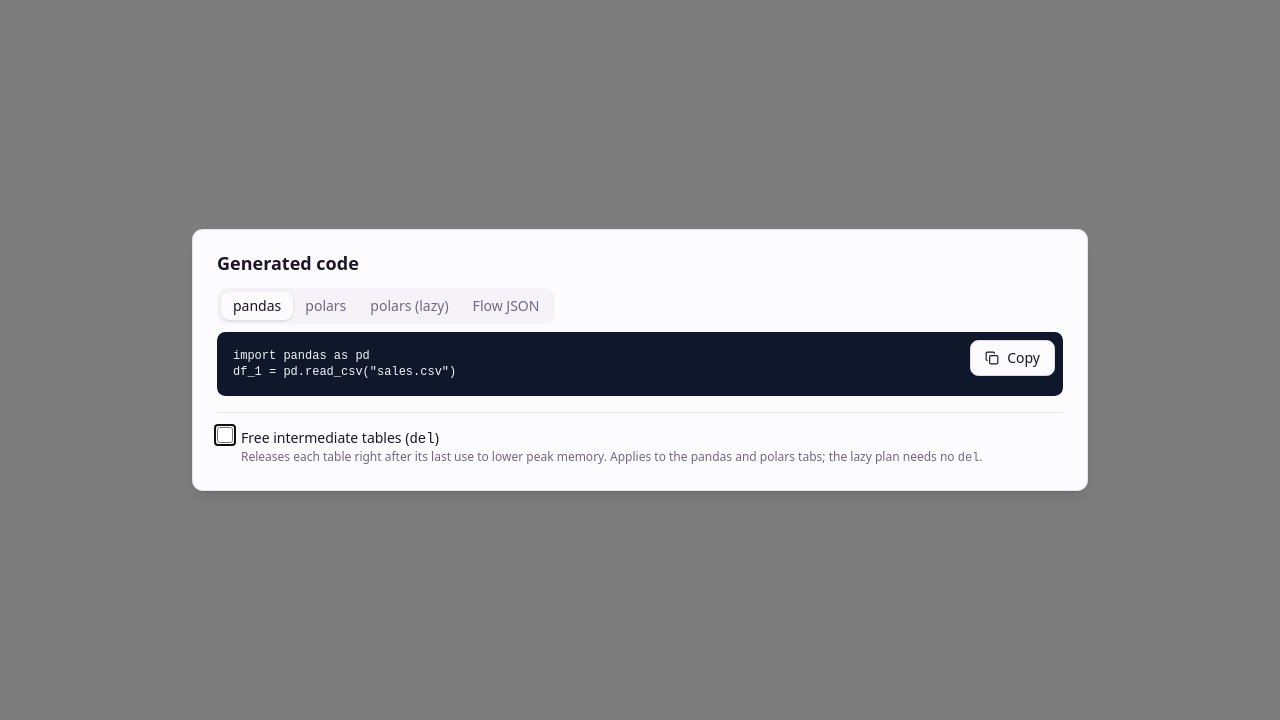
Test: ExportCodeDialog › shows the importable Flow JSON document on its tab
Expected: the text "import pandas as pd df_1 = pd.read_csv(\"sales.csv\")" is shown, [233,349,456,379]
Click the tab "Flow JSON" at (506, 306), box [461,292,551,320]
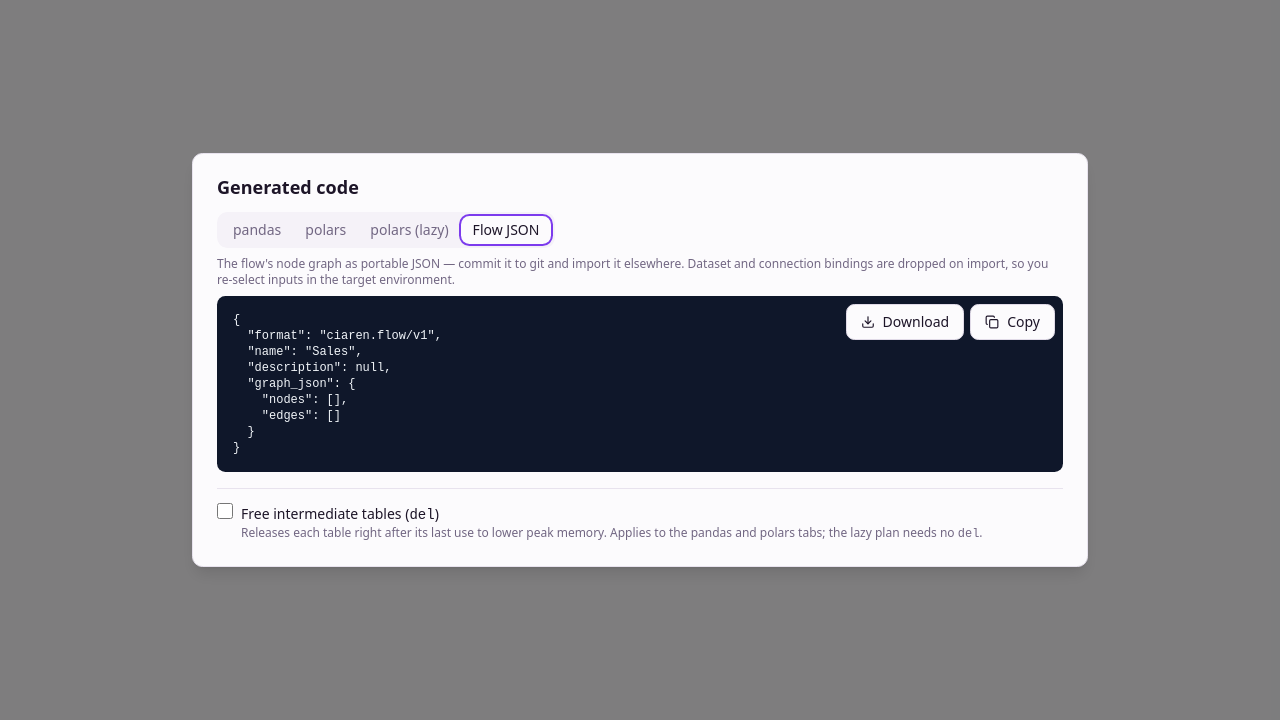
Expected: the text "ciaren.flow/v1" is shown, [233,313,442,455]
Expected: the button "Download" is shown, [846,304,964,340]
